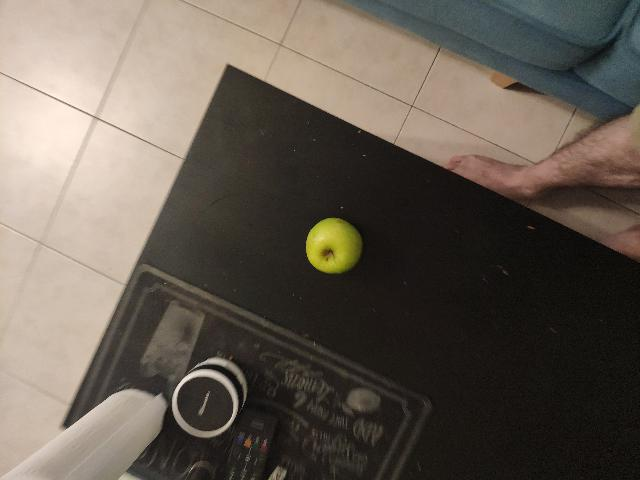apple: (297, 210, 362, 275)
